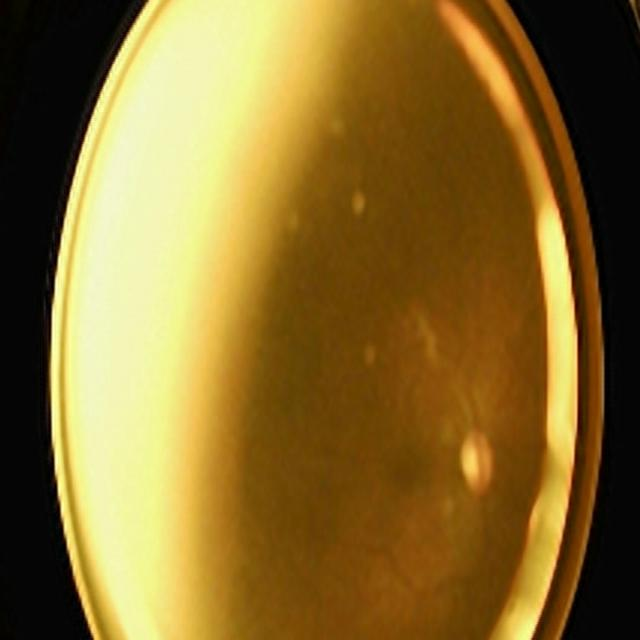optic-nerve: (434, 400, 509, 530)
